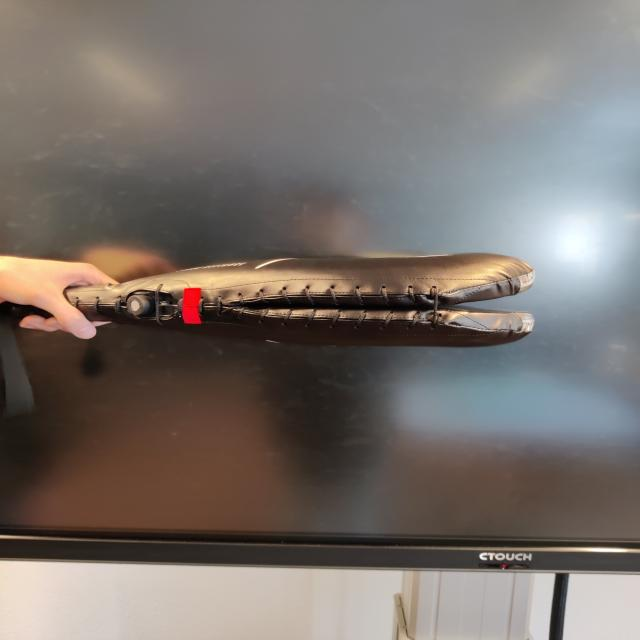paddle: (66, 250, 540, 350)
